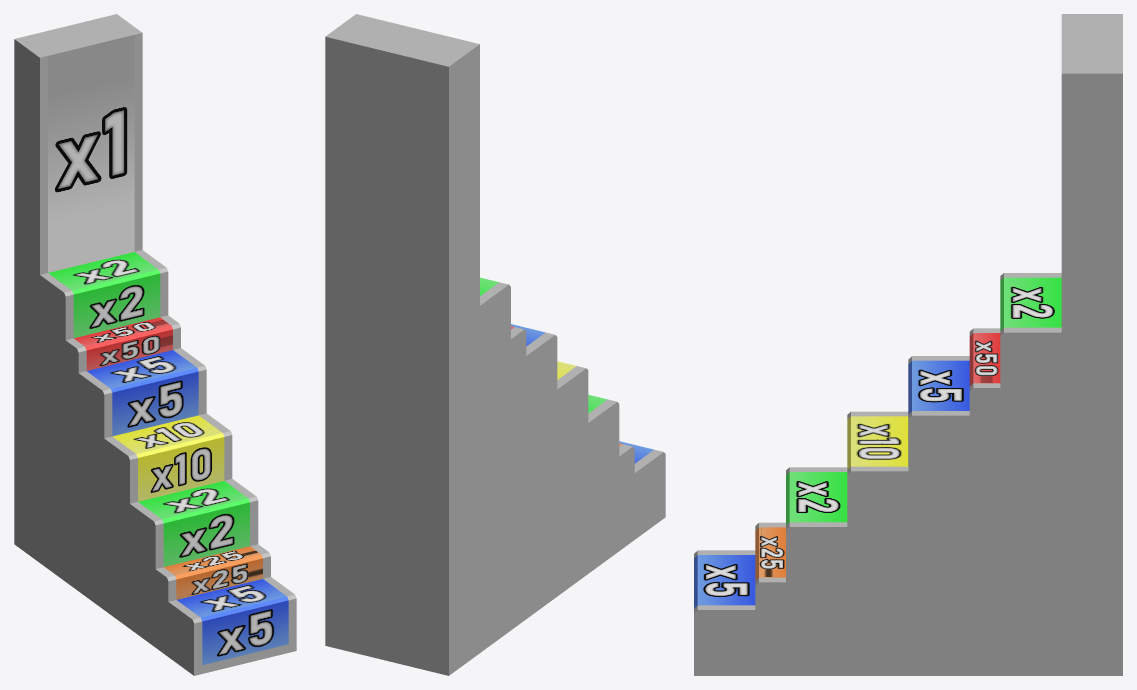
Rendered from ending.fbx.
The picture shows the model from 3 angles, left to right: view 1: azimuth 30°, elevation 25°; view 2: azimuth 150°, elevation 25°; view 3: azimuth 270°, elevation 25°; orthographic projection. The views are drawn at different scales.
Visible parts, largest first — view 1: Ending; view 2: Ending; view 3: Ending.
Part boxes in pixels (bbox=[...]): Ending: bbox=[14, 14, 296, 675]; Ending: bbox=[325, 14, 665, 675]; Ending: bbox=[694, 14, 1122, 675].
Size of the model in its own units: 2.43 by 7.38 by 11.44.
